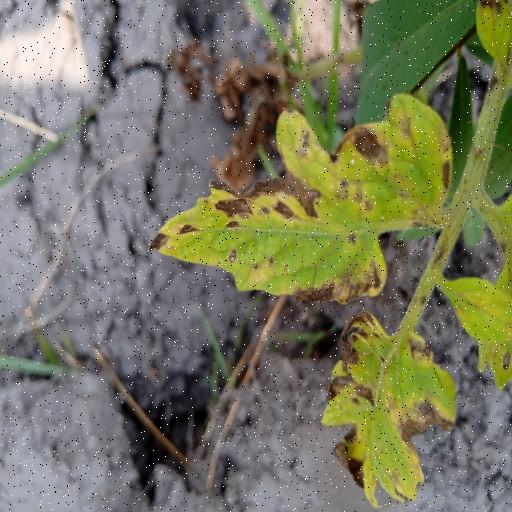Tomato_Brown_Spots: (152, 90, 459, 306), (318, 305, 462, 512)
